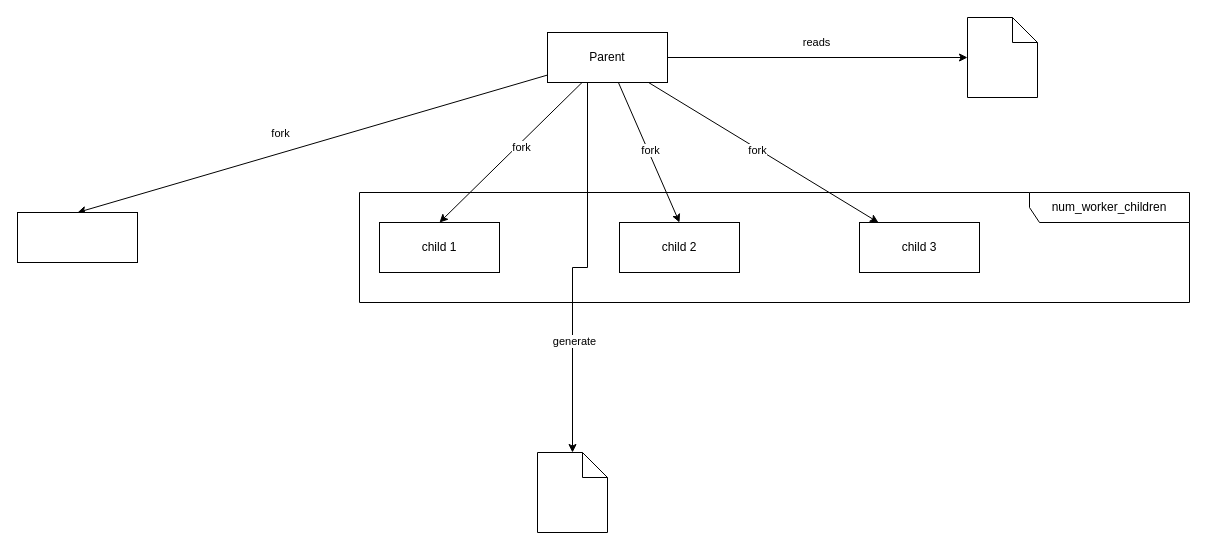
This 1207x550 diagram has some shape labels left out. The centre of each missing label's shape, as x and y in pixels:
configFile: the point at 1002,57
Monitor_directory: the point at 77,237
Report: the point at 572,492
